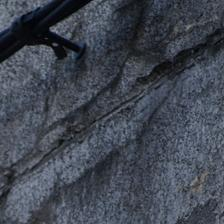Crack: (3, 17, 220, 173)
